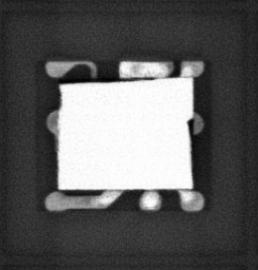DIE_BROKEN: (57, 74, 158, 85), (186, 115, 196, 145)
